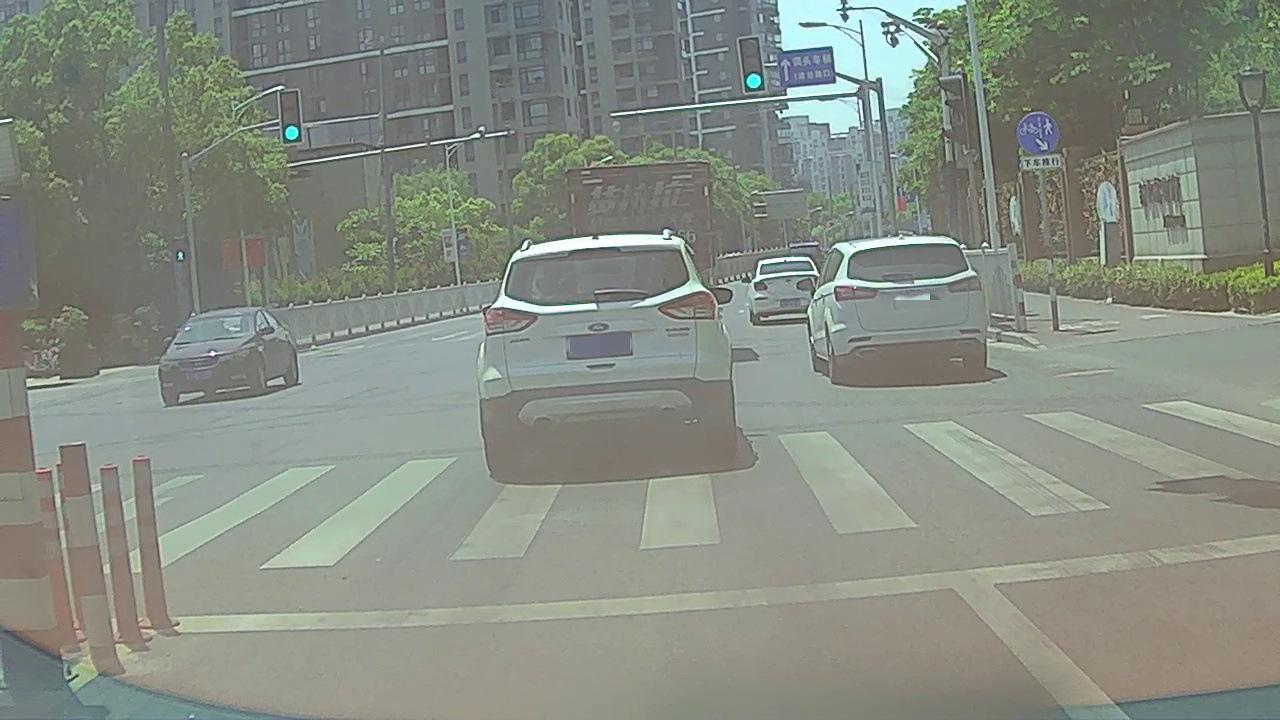traffic_light: (739, 36, 765, 93), (277, 93, 303, 143)
